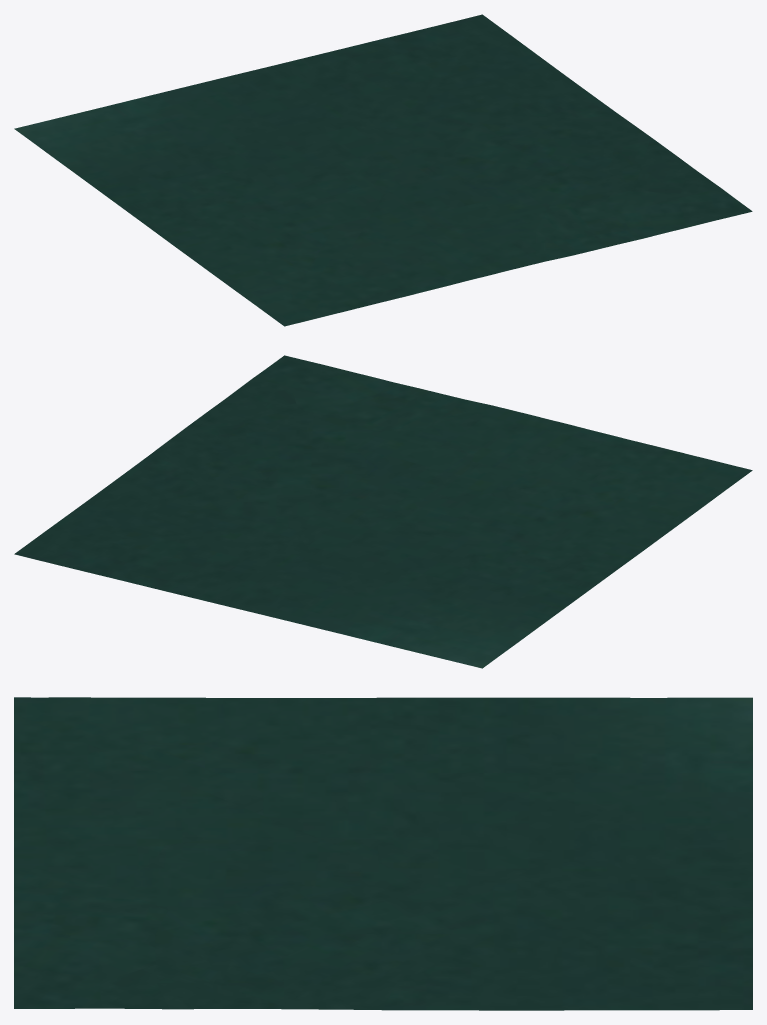
The picture shows the model from 3 angles, top to bottom: view 1: azimuth 30°, elevation 25°; view 2: azimuth 150°, elevation 25°; view 3: azimuth 270°, elevation 25°; orthographic projection. The views are drawn at different scales.
Size of the model in its own units: 52.22 by 0.2044 by 52.22.
Materials: 2 (2 with a texture image).
